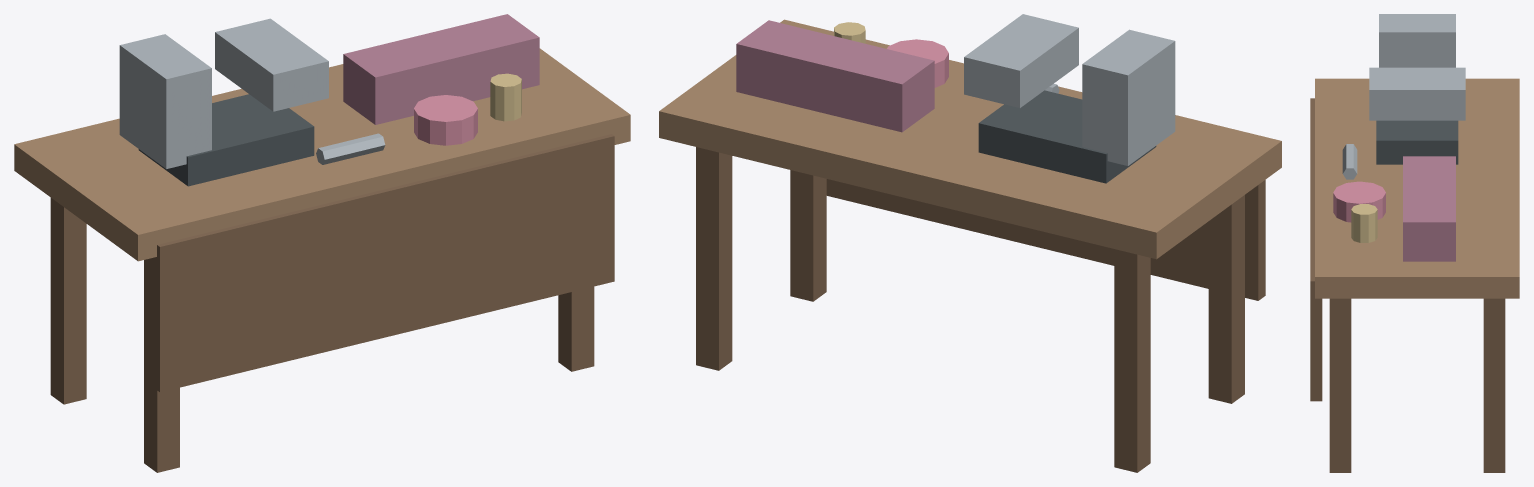
The model's file is tailor_table.glb.
3 renders of one model, left to right at view 1: azimuth 30°, elevation 25°; view 2: azimuth 150°, elevation 25°; view 3: azimuth 270°, elevation 25°, orthographic. The views are drawn at different scales.
Parts seen in each view (by area): view 1: tailor_table; view 2: tailor_table; view 3: tailor_table.
Part boxes in pixels (x1,y1,x2,y2): tailor_table: [14, 14, 630, 472]; tailor_table: [659, 14, 1281, 472]; tailor_table: [1310, 14, 1519, 472].
Size of the model in its own units: 1.95 by 1.37 by 0.87.
